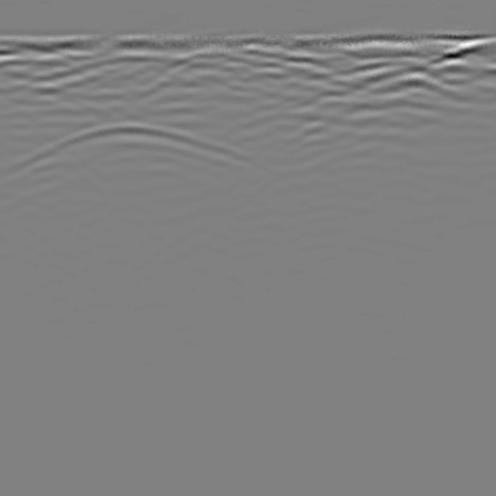hyperbola: (2, 111, 261, 219)
